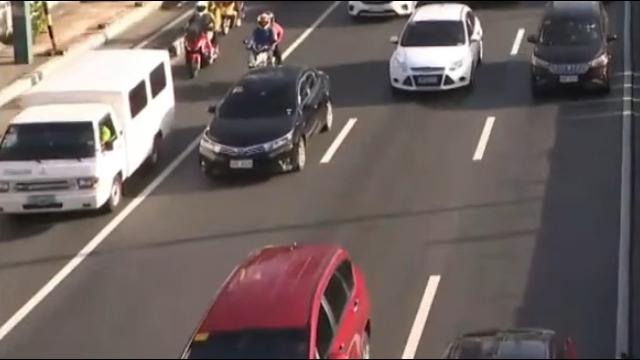car: (177, 243, 369, 360), (196, 67, 331, 178), (387, 4, 486, 98), (530, 0, 613, 100), (427, 324, 586, 360), (345, 0, 419, 20)
motorcycle: (185, 1, 221, 79), (248, 11, 286, 82)
van: (0, 48, 177, 222)
